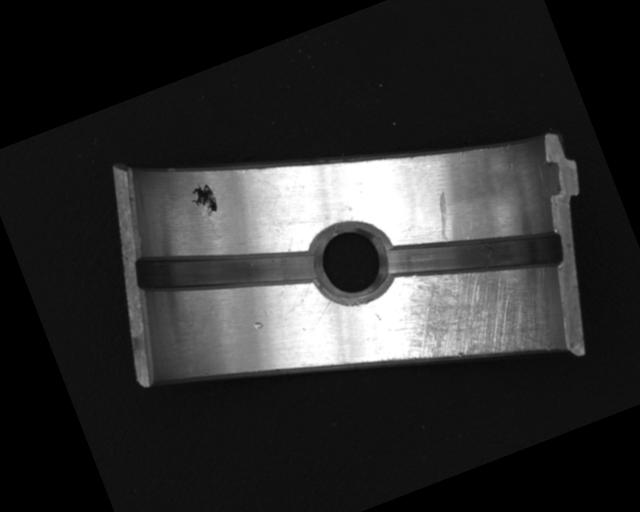blot: (183, 175, 222, 221)
bruise: (250, 319, 266, 331)
gap: (129, 196, 326, 342), (380, 188, 569, 322)
hole: (300, 213, 404, 315)
nick: (425, 189, 463, 243), (303, 297, 342, 331)
scratch: (372, 233, 569, 404)
